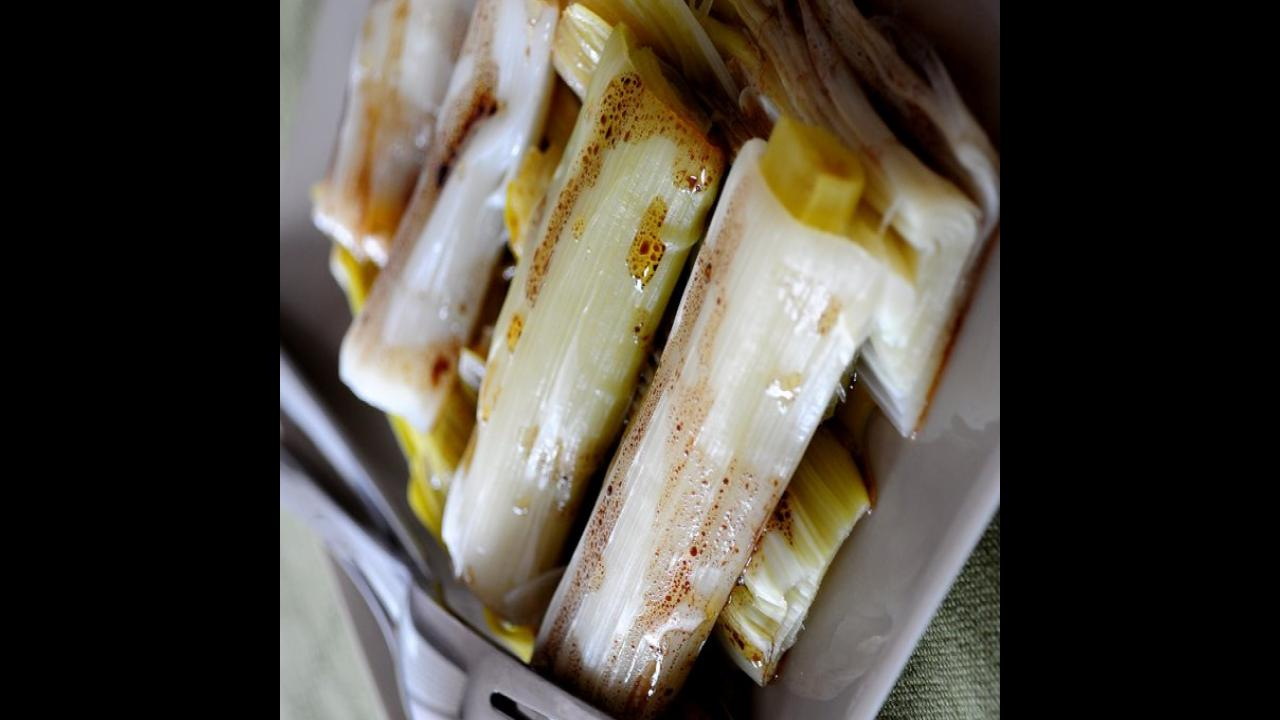fork: (280, 431, 715, 720)
